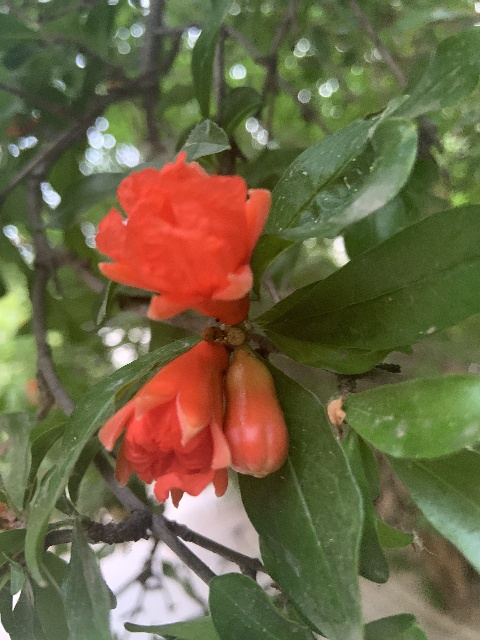bud: (223, 348, 287, 478), (200, 326, 221, 341)
flower: (94, 150, 271, 326), (99, 340, 233, 506)
